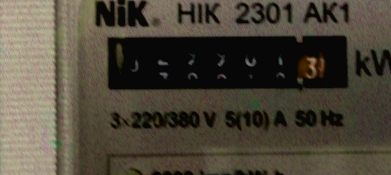0: (123, 46, 141, 73), (242, 39, 258, 68)
1: (273, 38, 286, 66)
2: (153, 39, 171, 67)
3: (302, 53, 319, 79)
9: (183, 39, 199, 66), (214, 40, 227, 67)
screen: (98, 25, 358, 98)
